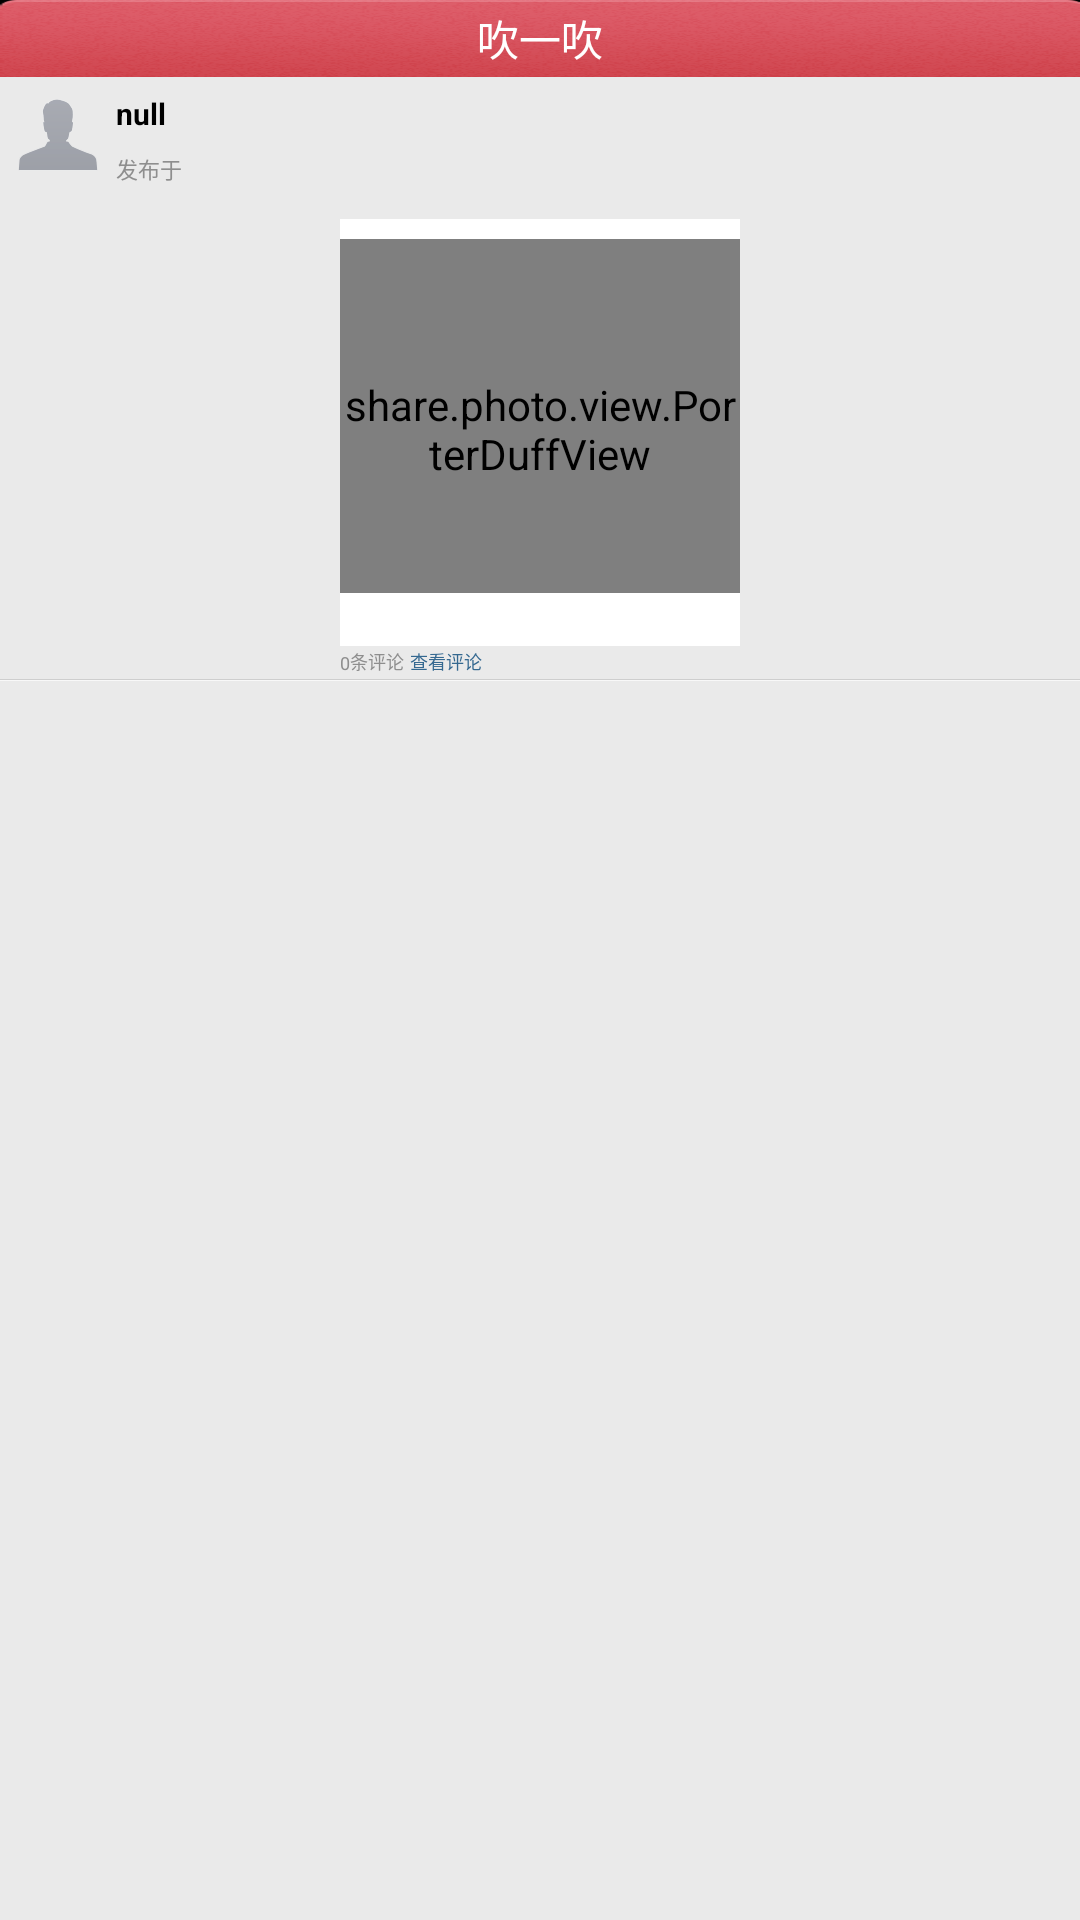

Named icons in this screenshot (1080 x 1920) and their centers, point (x, y):
public head pic: point (58, 135)
